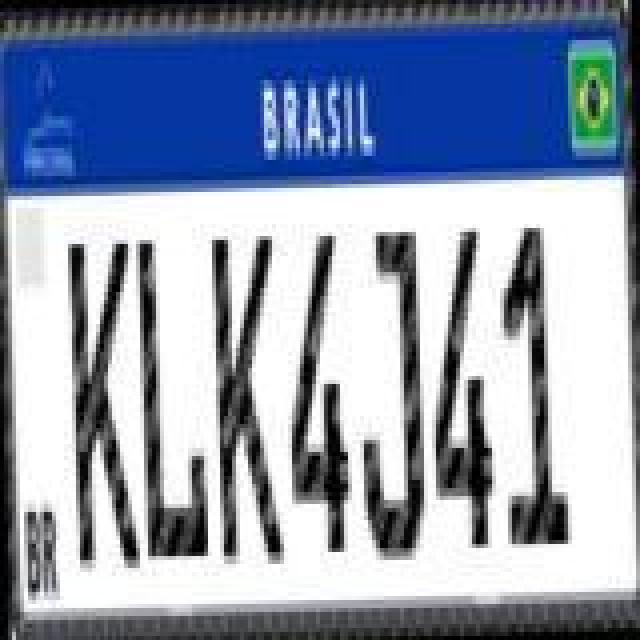1: (498, 220, 574, 548)
4: (428, 224, 500, 552), (280, 230, 352, 554)
J: (354, 222, 430, 562)
K: (66, 236, 142, 572), (210, 232, 286, 568)
L: (138, 236, 214, 564)
